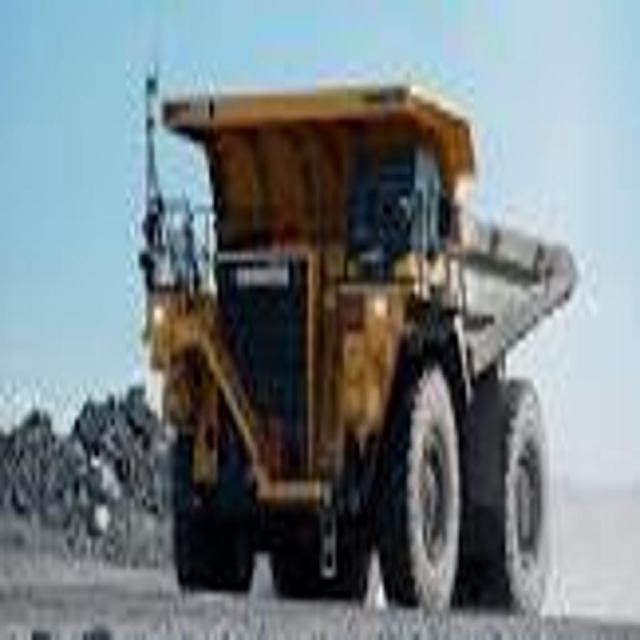dump_truck: (136, 29, 587, 640)
